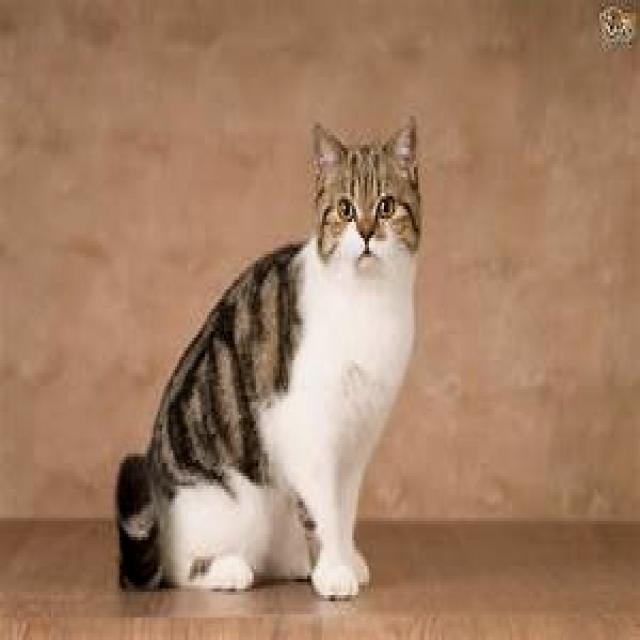KEDI: (111, 115, 425, 605)
